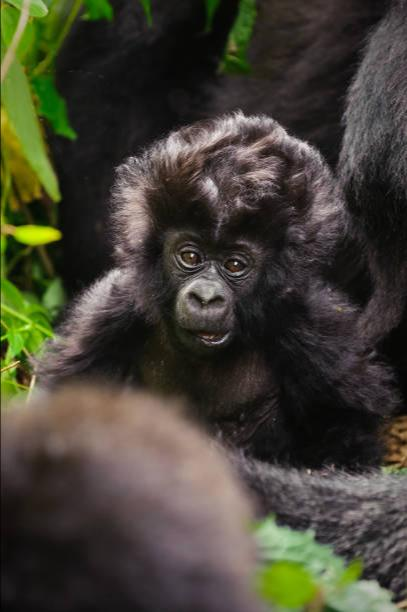goriile_montagne: (72, 104, 407, 462)
